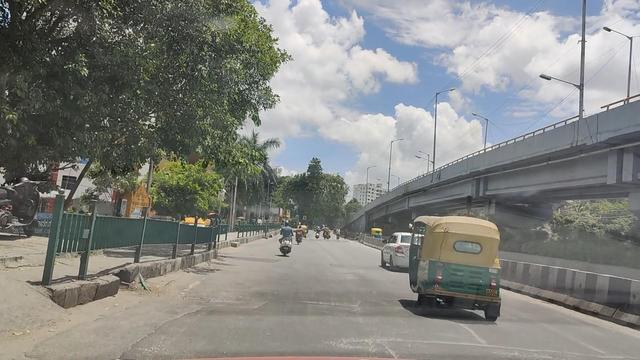LMV: (417, 213, 503, 314)
RoadDamages: (335, 312, 391, 353), (439, 326, 532, 348), (208, 288, 263, 309), (302, 286, 355, 306)
